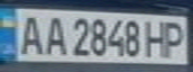2: (66, 14, 90, 57)
4: (106, 16, 127, 57)
8: (121, 17, 145, 57), (87, 15, 109, 56)
A: (15, 11, 48, 56), (39, 12, 69, 56)
H: (142, 17, 172, 59)
P: (160, 18, 190, 60)
